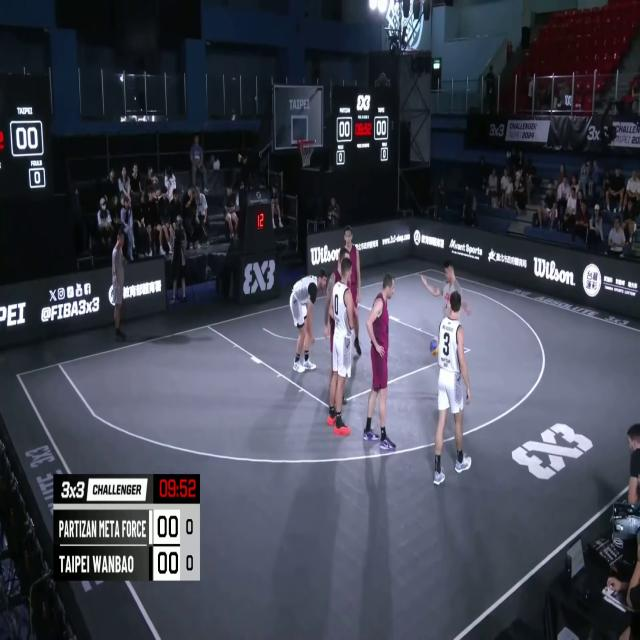ball: (429, 339, 442, 360)
hoop: (297, 136, 317, 169)
player: (426, 290, 472, 487), (365, 270, 397, 451), (320, 246, 355, 404), (328, 255, 354, 437), (337, 226, 362, 361), (290, 270, 319, 375)
